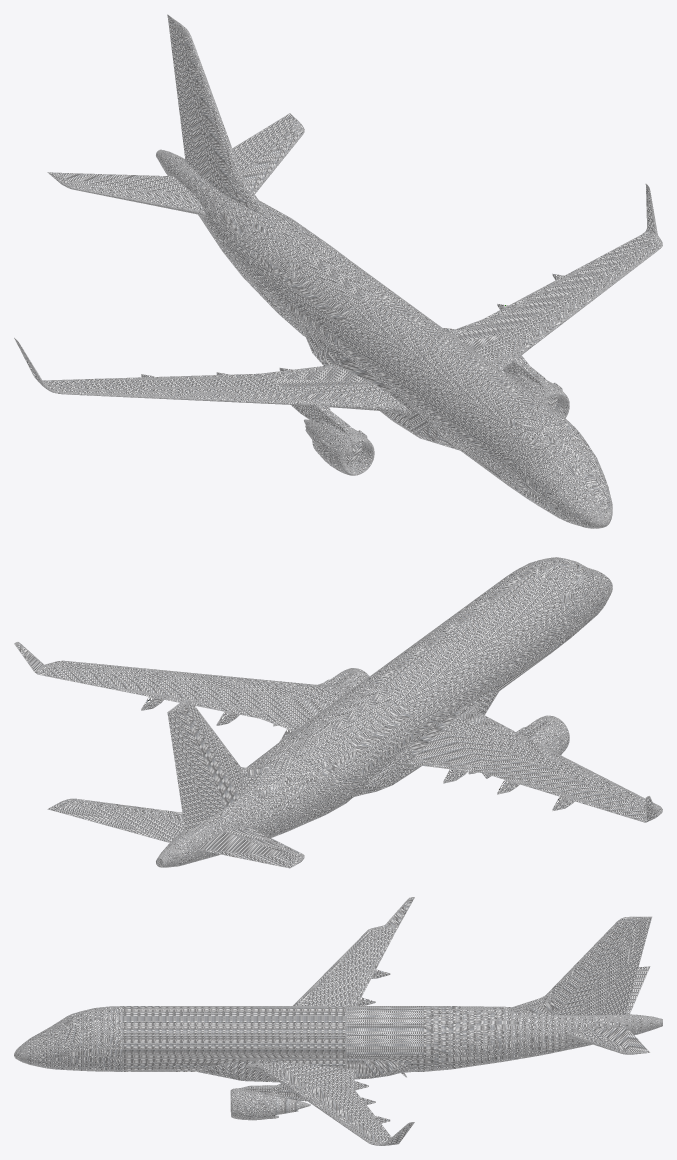
Rendered from RFSL_Embraer_E175OW_MSFS_LOD2.gltf.
The picture shows the model from 3 angles, top to bottom: view 1: azimuth 30°, elevation 25°; view 2: azimuth 150°, elevation 25°; view 3: azimuth 270°, elevation 25°; orthographic projection. The views are drawn at different scales.
Visible parts, largest first — view 1: node4; view 2: node4; view 3: node4.
Part boxes in pixels (<box>): node4: <box>14,14,662,528</box>; node4: <box>14,557,662,868</box>; node4: <box>14,897,662,1145</box>.
Bounding box in the file's own units: 25.98 × 9.02 × 31.67.
